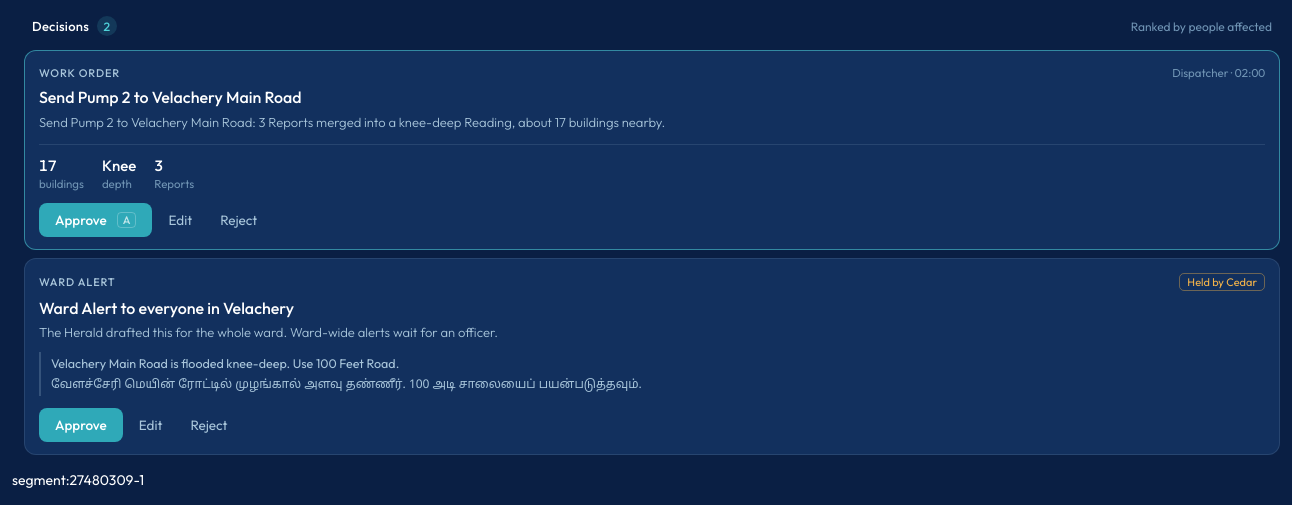
Test: 409 on approve shows who decided first
The image size is (1292, 505).
Expected: the element "Send Pump 2 to Velachery Main Road" is shown, x1=24 y1=50 x2=1280 y2=250
What coordinates should you click on to do the following:
click the button "Approve A"
I would click on:
 (96, 220)
Its box is x1=39 y1=203 x2=152 y2=237.
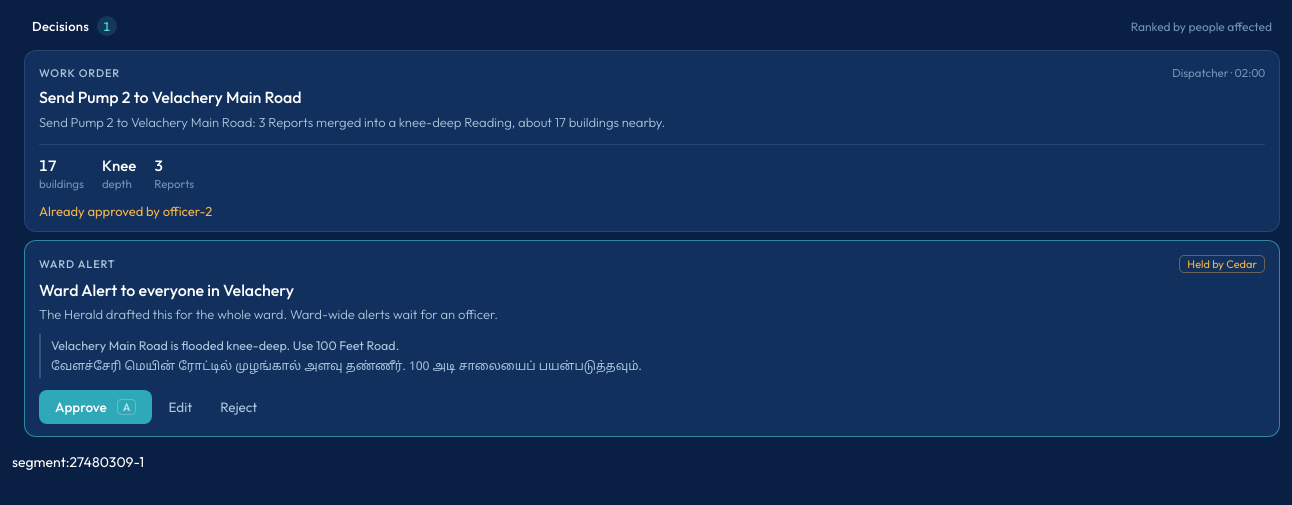
Expected: the text "Already approved by officer-2" is shown, x1=39 y1=203 x2=212 y2=219
